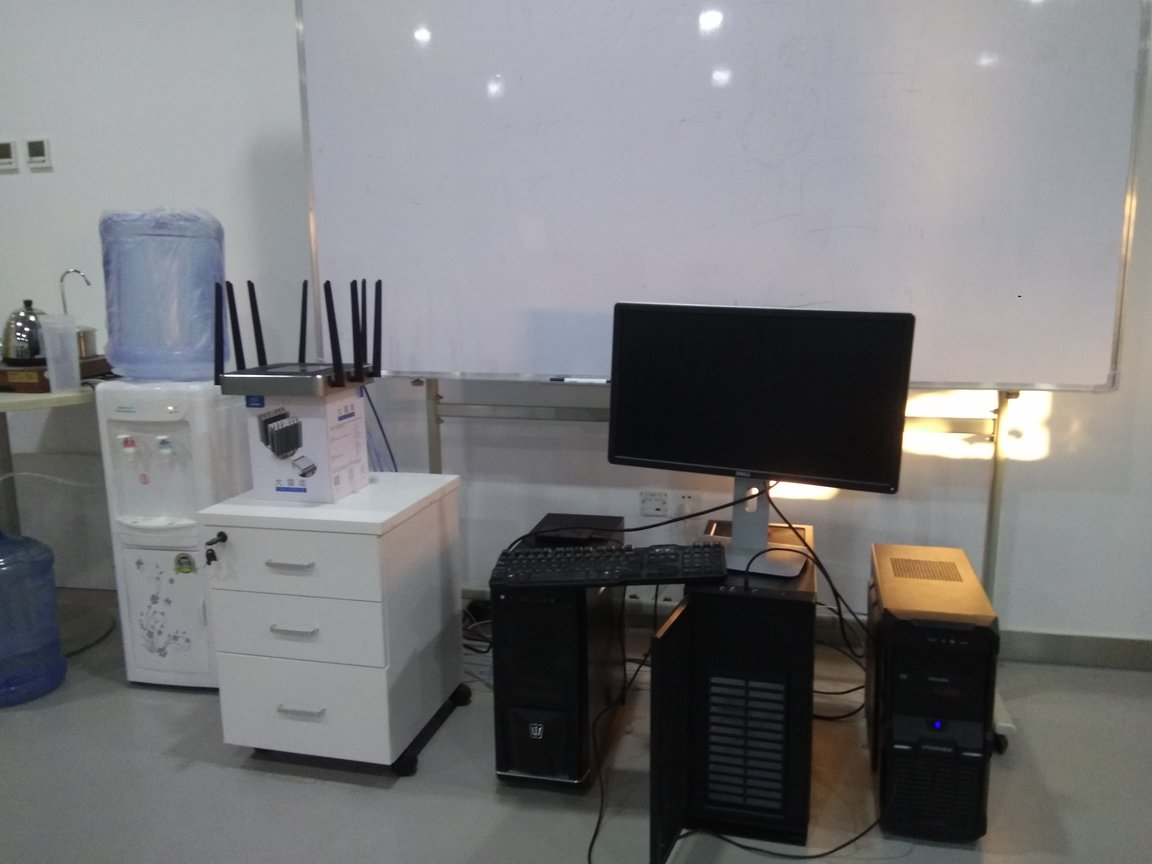computer: (656, 513, 824, 864), (489, 510, 631, 813), (875, 546, 999, 853)
drawer chest: (202, 470, 474, 783)
monitor: (601, 297, 925, 583)
scuttlebutt: (98, 208, 243, 384), (1, 542, 71, 706)
water dispenser: (96, 374, 261, 700)
